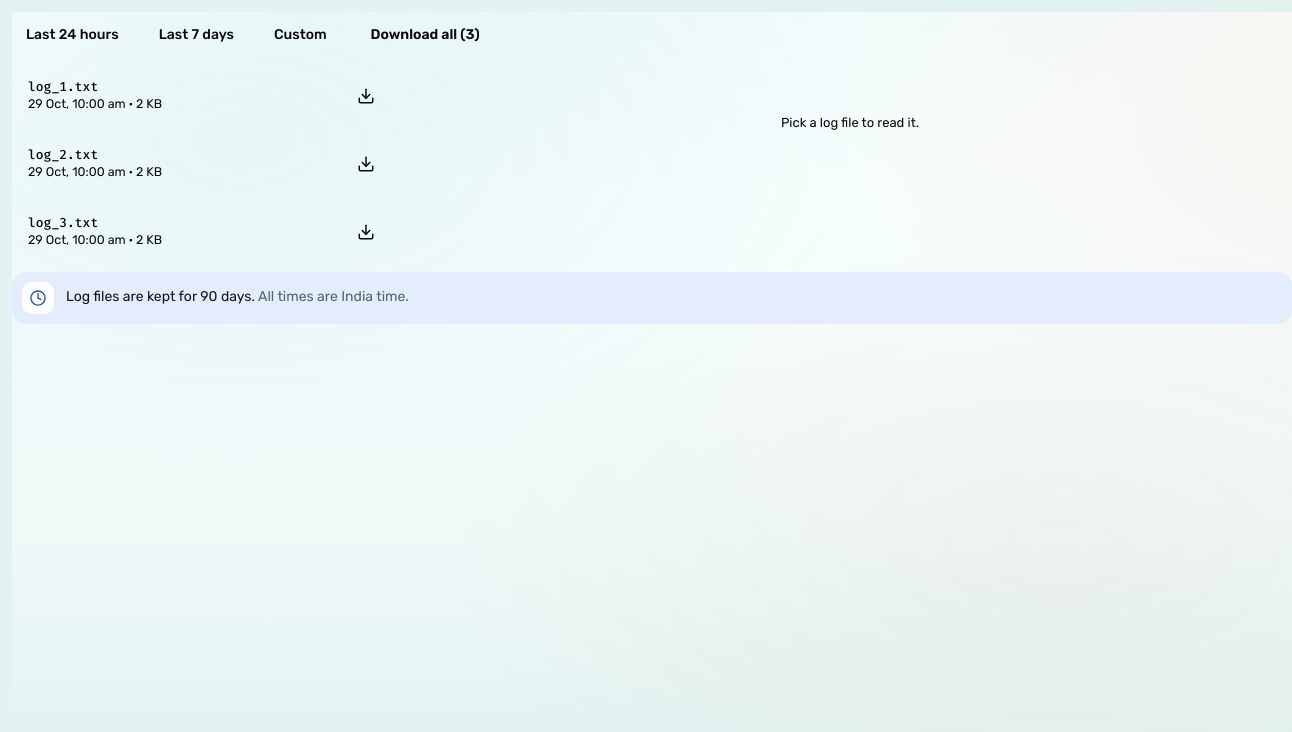
Test: OpsLogFiles › LG8 level colouring and errors-only
Click the button with aria-label "Open log_1.txt": {"x": 63, "y": 87} [12,70,344,122]
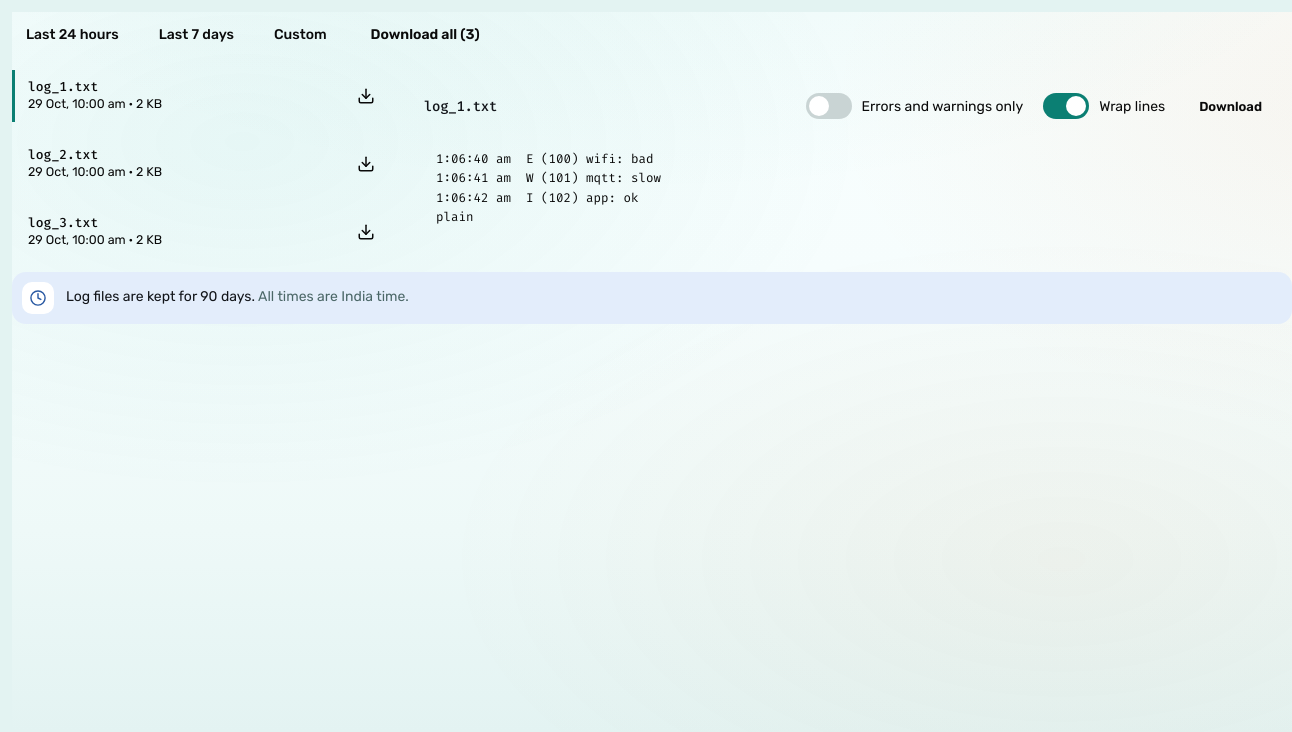
Click the switch labelled "Errors and warnings only": {"x": 914, "y": 106} [806,84,1023,128]
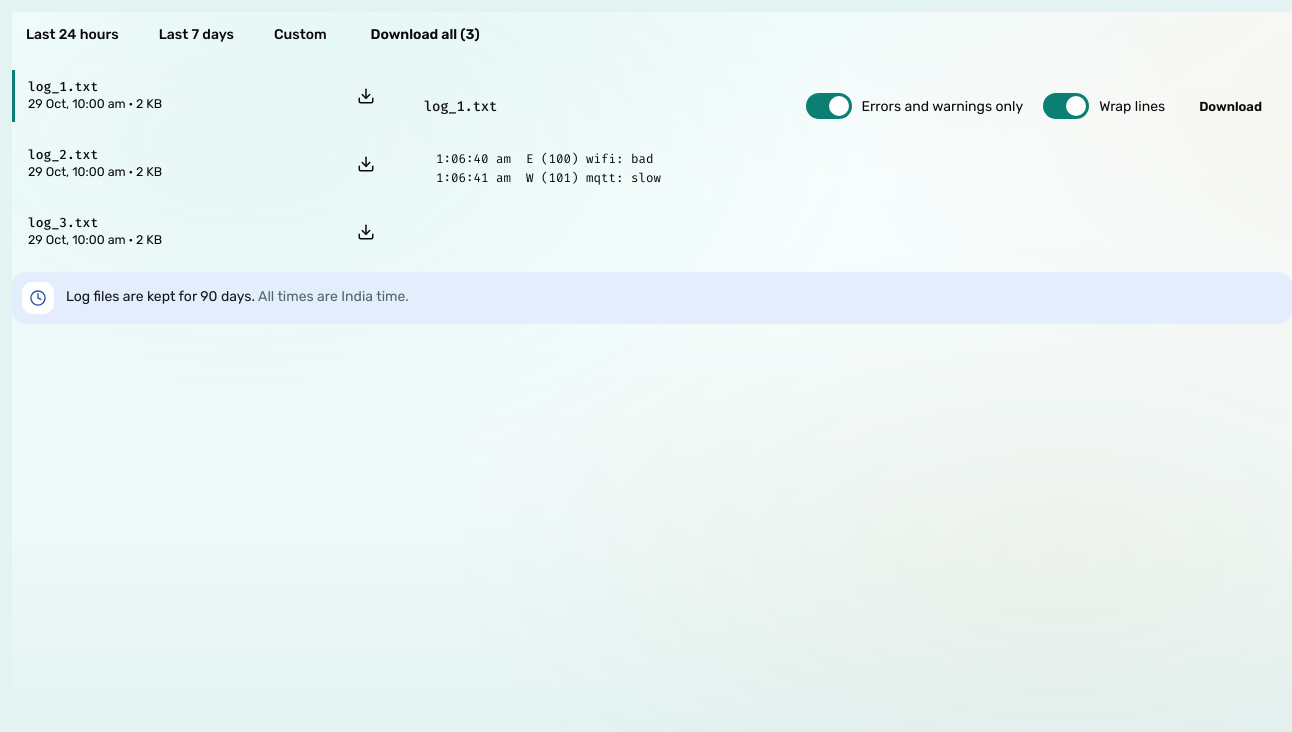
Check: the text "1:06:41 am W (101) mqtt: slow" is shown, box [436,170,661,186]
Check: the text "app: ok" is gone
